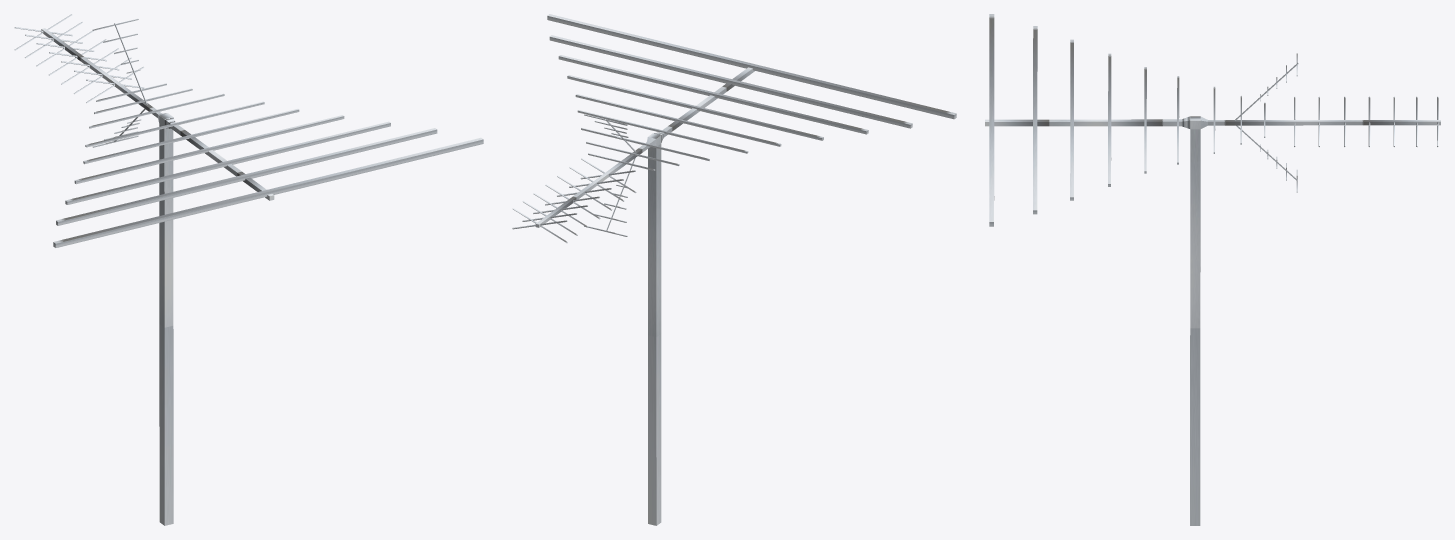
Rendered from tvantenta.fbx.
3 renders of one model, left to right at view 1: azimuth 30°, elevation 25°; view 2: azimuth 150°, elevation 25°; view 3: azimuth 270°, elevation 25°, orthographic. The views are drawn at different scales.
Visible parts, largest first — view 1: Regroup0; view 2: Regroup0; view 3: Regroup0.
Boxes of the visible parts, x1,y1,x2,y2 form: Regroup0: (14,14,483,525); Regroup0: (512,14,956,525); Regroup0: (985,14,1440,525).
Bounding box in the file's own units: 5.24 × 5.41 × 4.85.
